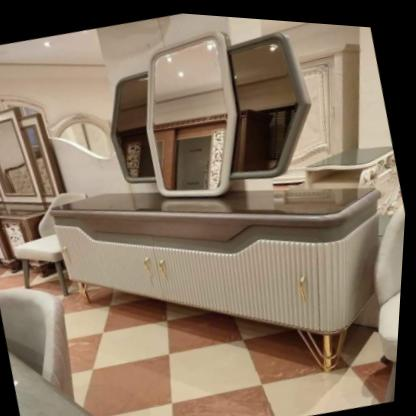Sideboard: (43, 180, 385, 344)
